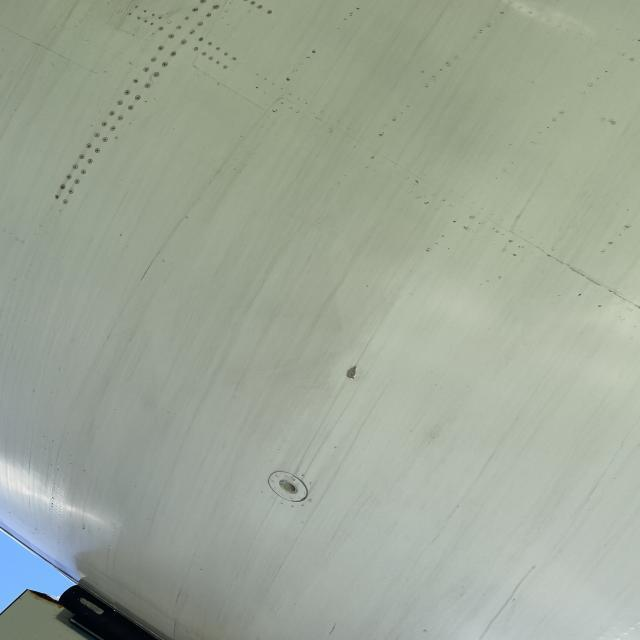crack: (347, 363, 375, 395), (140, 254, 173, 281)
